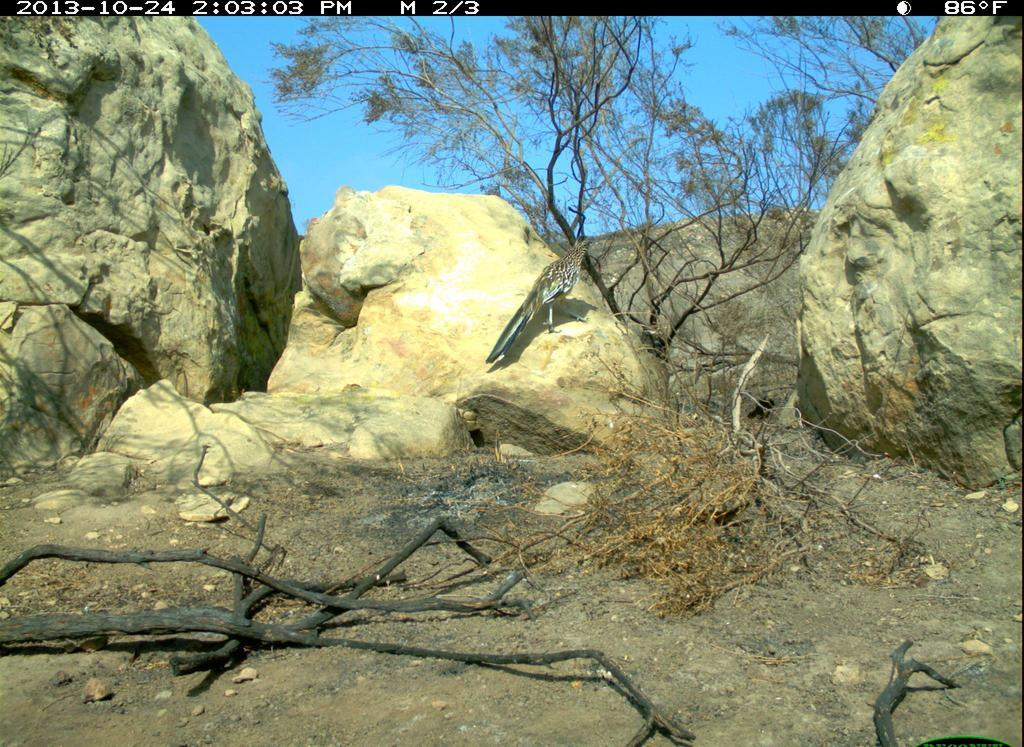bird: (484, 232, 597, 373)
